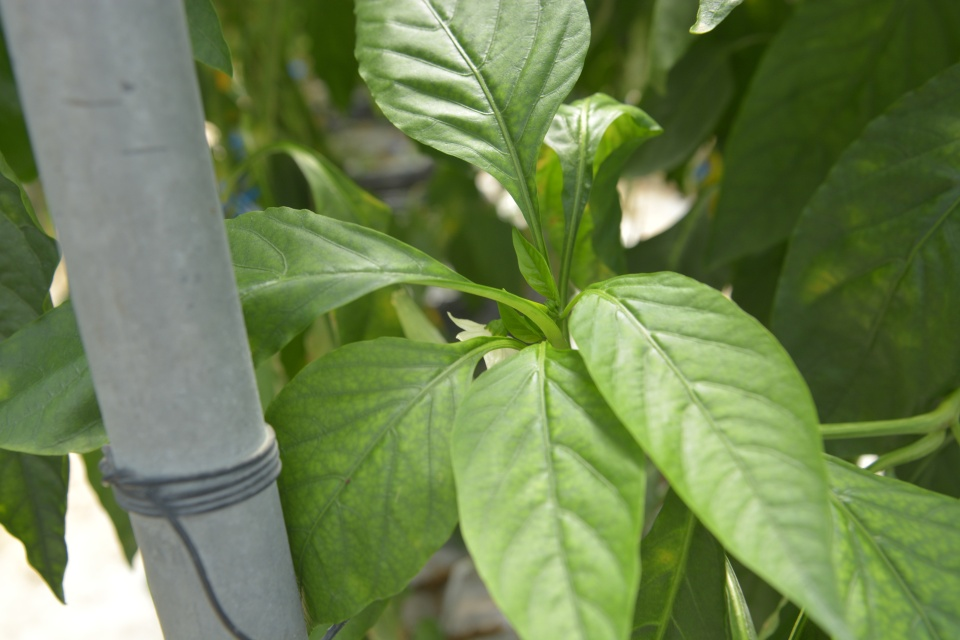flower: (445, 304, 522, 373)
